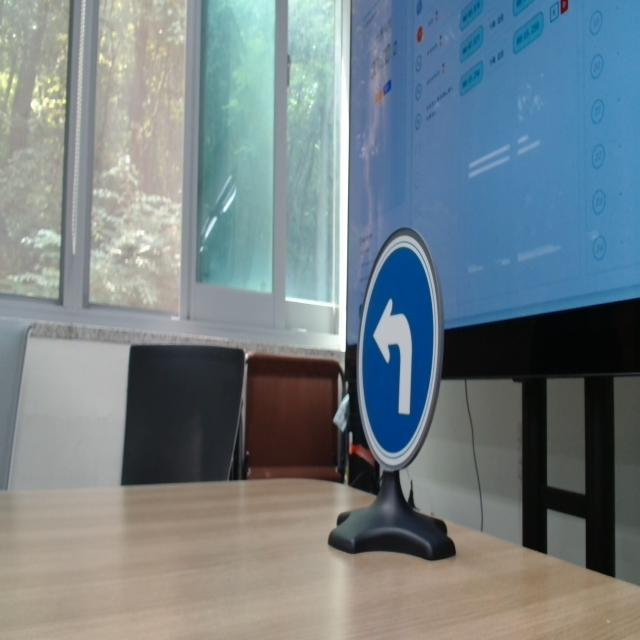left_direction: (344, 197, 452, 463)
